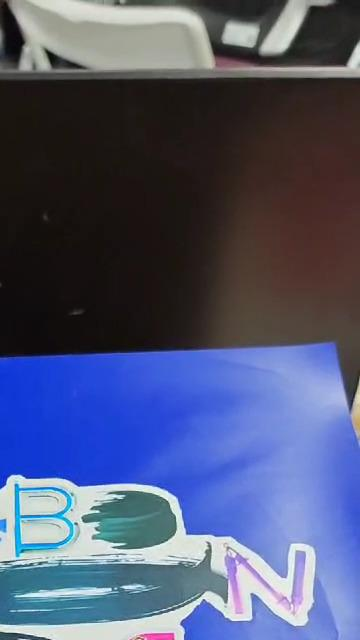B_R1: (0, 470, 329, 640)
